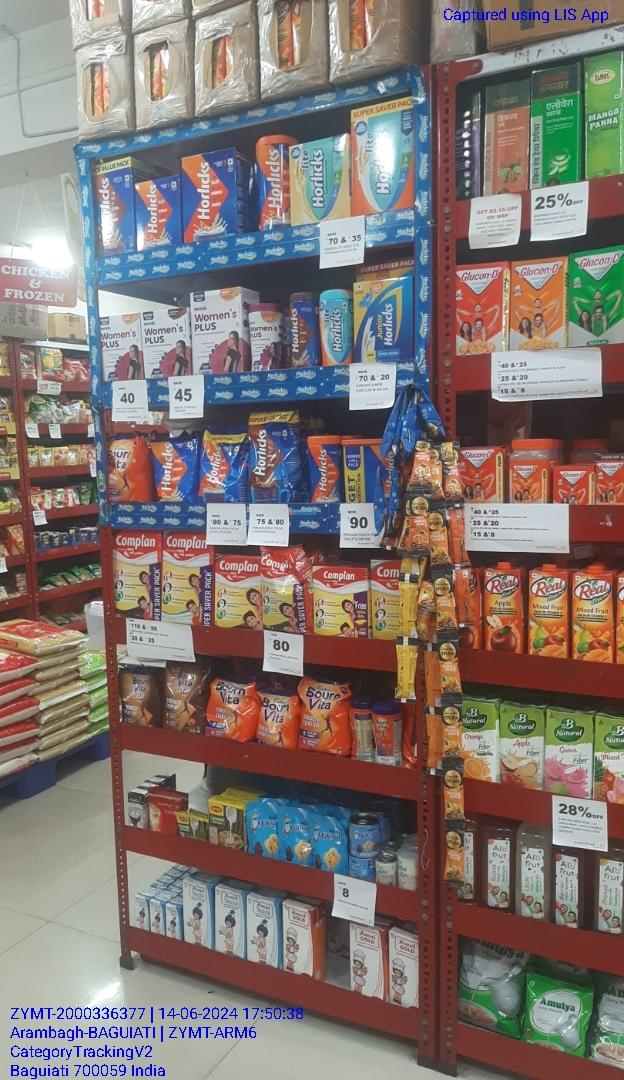BOURN_VITA_500_G_POUCH: (206, 676, 250, 740), (259, 688, 294, 748)
BOURN_VITA_750_G_POUCH: (299, 675, 347, 753)
BOURN_VITA_FIVE_STAR_MAGIC_500_G_POUCH: (121, 668, 153, 725)
BOURN_VITA_FIVE_STAR_MAGIC_750_G_POUCH: (163, 662, 204, 734)
COMPLAN_CHOCOLATE_200_GMS_PACK: (214, 554, 263, 630)
COMPLAN_KESAR_BADAM_200_GMS_PACK: (313, 565, 368, 638)
HORLICKS_LITE_REGULAR_MALT_500_GM_JAR: (319, 288, 352, 365)
HORLICK_CHOCOLATE_500_G_JAR: (288, 291, 314, 367)
HORLICK_CHOCOLATE_750_G_POUCH: (247, 411, 292, 503)
HORLICK_CLASSIC_MALT_500_G_JAR: (254, 132, 291, 230), (308, 436, 340, 502)
HORLICK_CLASSIC_MALT_500_G_PACK: (182, 147, 236, 236), (135, 176, 180, 248)
HORLICK_CLASSIC_MALT_750_G_POUCH: (200, 428, 245, 503), (153, 438, 196, 501)
